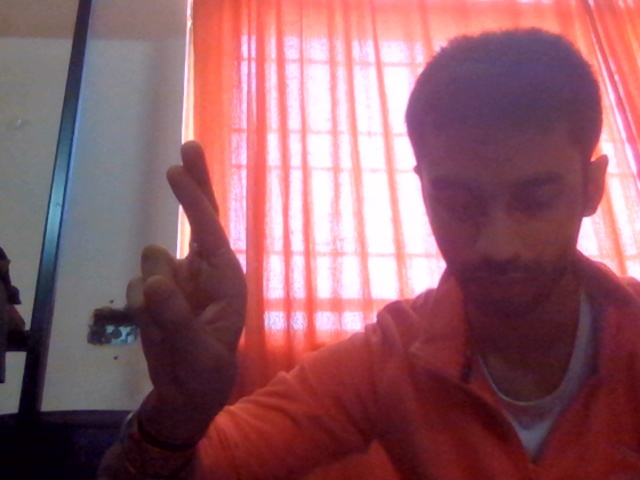R: (102, 116, 294, 450)
